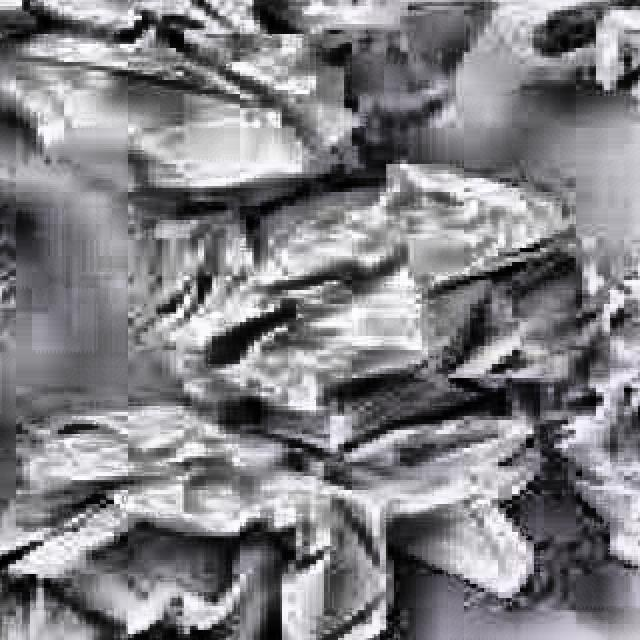paper: (134, 154, 576, 448), (0, 0, 484, 196), (0, 402, 394, 640), (232, 388, 526, 588), (548, 258, 640, 598)
